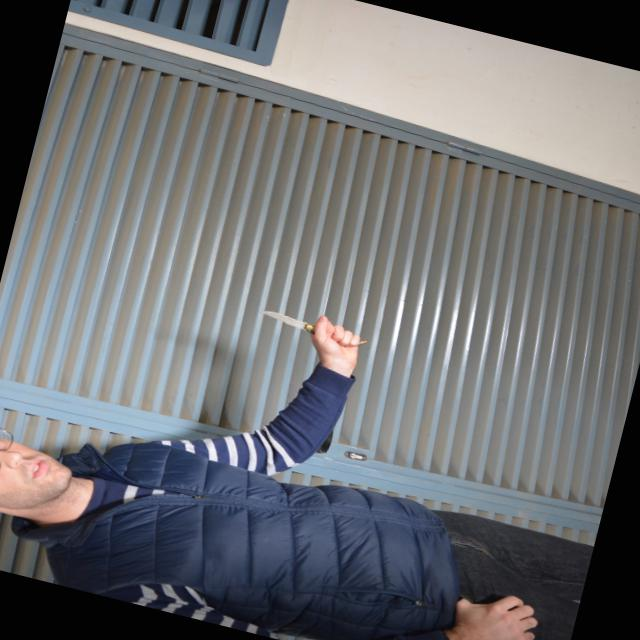knife: (252, 302, 374, 354)
